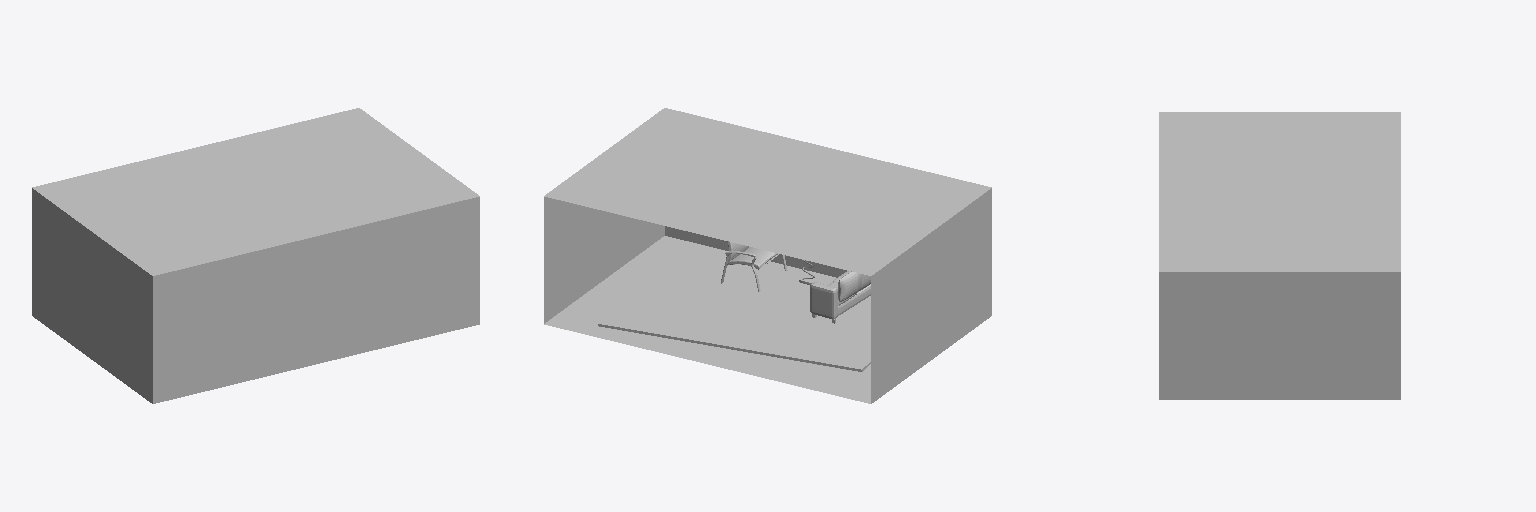
3 views of the same model, side by side, from view 1: azimuth 30°, elevation 25°; view 2: azimuth 150°, elevation 25°; view 3: azimuth 270°, elevation 25° (orthographic).
Visible parts, largest first — view 1: BOX101; view 2: BOX101, Box04, line102; view 3: BOX101.
Part boxes in pixels (x1,y1,x2,y2): BOX101: (32, 108, 479, 403); BOX101: (544, 108, 991, 403); Box04: (810, 282, 837, 318); line102: (838, 271, 861, 301); BOX101: (1159, 112, 1400, 399).
Size of the model in its own units: 1655 by 618 by 1060.